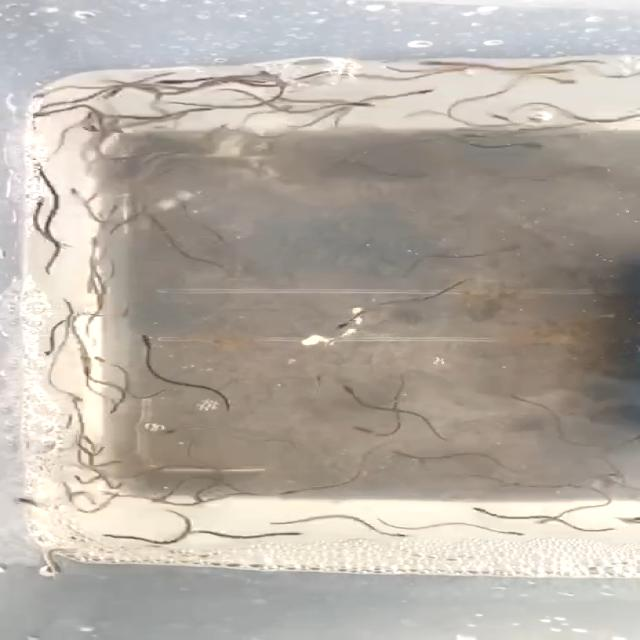inactive_glass_eel: (130, 330, 166, 352), (334, 95, 380, 112), (19, 193, 56, 210), (30, 83, 64, 101), (112, 303, 146, 321), (86, 232, 108, 258), (175, 188, 203, 208), (605, 108, 640, 124), (72, 146, 95, 170), (46, 556, 73, 576), (13, 495, 43, 513), (191, 100, 220, 118), (25, 107, 55, 124), (406, 85, 436, 102), (61, 185, 89, 203), (456, 504, 492, 518), (150, 74, 186, 88), (27, 346, 51, 366), (330, 314, 364, 328), (546, 72, 580, 86), (490, 108, 518, 125), (37, 444, 63, 462), (153, 424, 184, 439), (144, 492, 182, 504), (512, 138, 542, 152), (490, 242, 520, 256), (104, 398, 130, 414), (606, 465, 632, 481), (300, 374, 334, 386), (532, 516, 566, 528), (100, 201, 124, 218), (407, 111, 444, 122), (412, 58, 452, 68), (587, 164, 613, 179), (347, 418, 371, 434), (334, 381, 358, 397), (500, 478, 524, 494), (390, 527, 419, 540), (78, 276, 100, 293), (276, 484, 302, 498), (462, 128, 498, 138), (85, 350, 105, 368), (499, 530, 534, 540), (273, 100, 297, 114), (386, 446, 408, 458), (287, 528, 311, 538), (141, 206, 160, 218)
